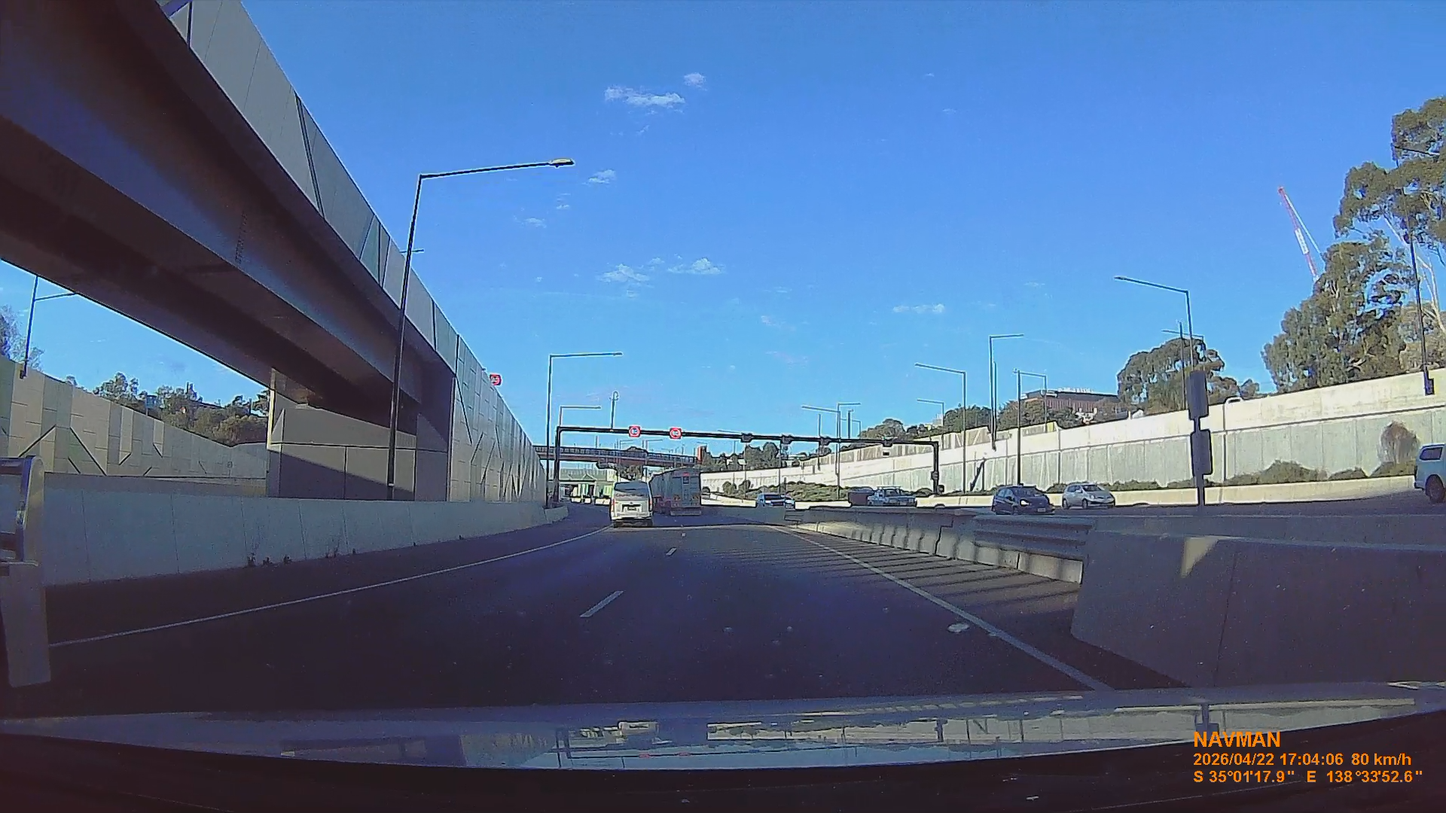road barriers: (815, 507, 1445, 687), (29, 478, 565, 587), (798, 508, 1088, 582)
